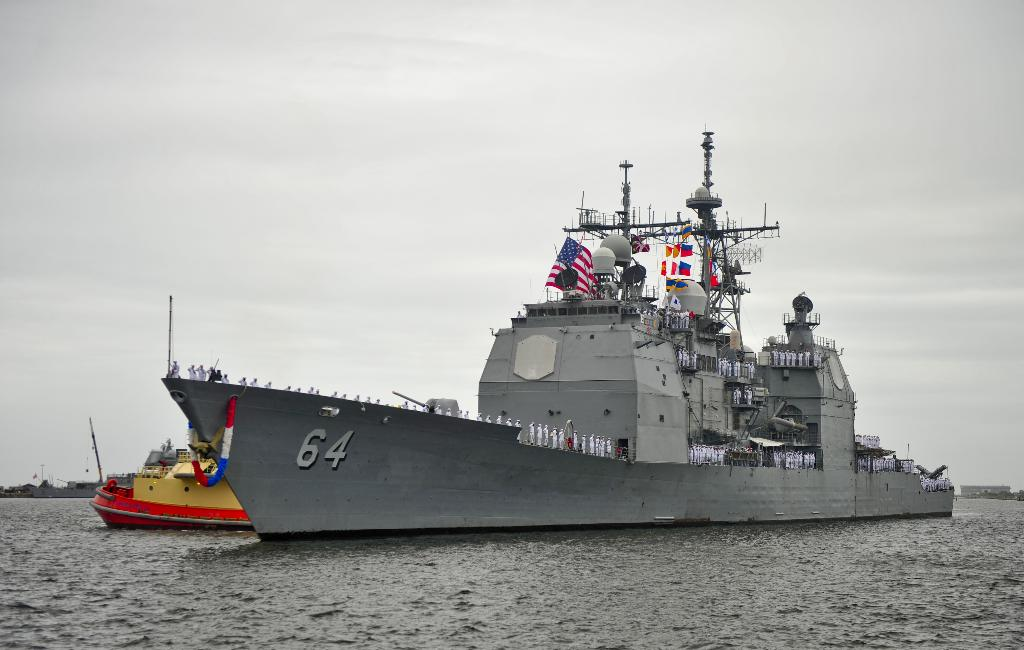Warship: (162, 123, 966, 543)
